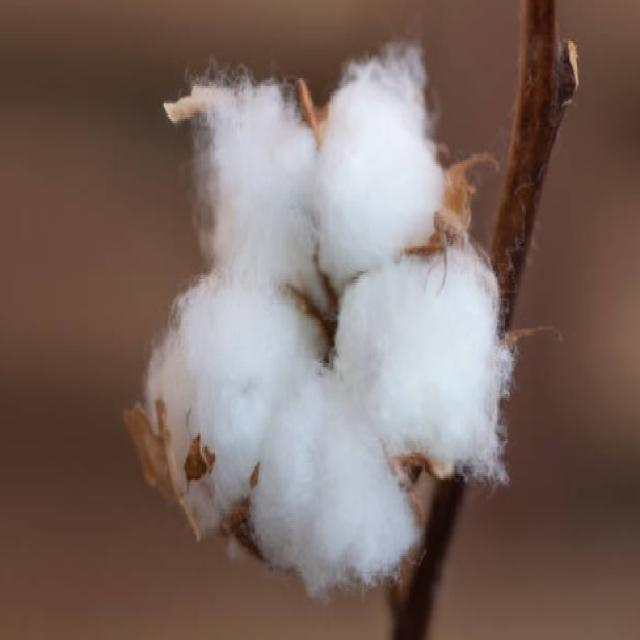Matured Cotton Boll: (133, 65, 501, 572)
